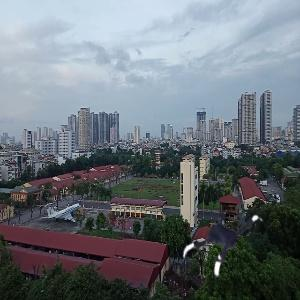drone: (180, 201, 270, 291)
